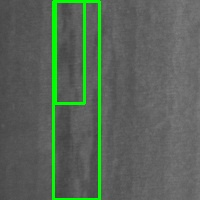inclusion: (53, 1, 99, 199), (55, 1, 84, 103)
